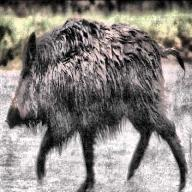boar: (3, 12, 192, 182)
